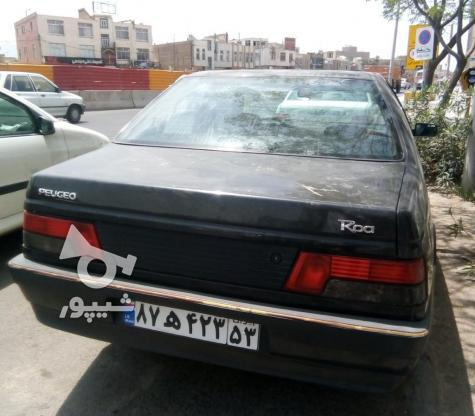car: (125, 297, 259, 349)
